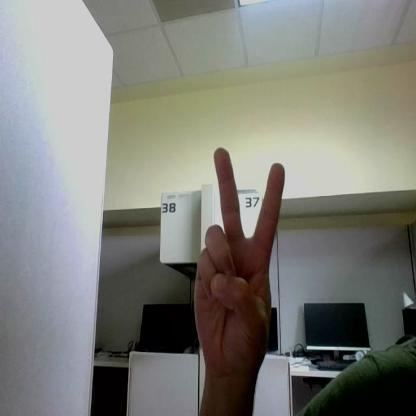V: (193, 148, 284, 362)
